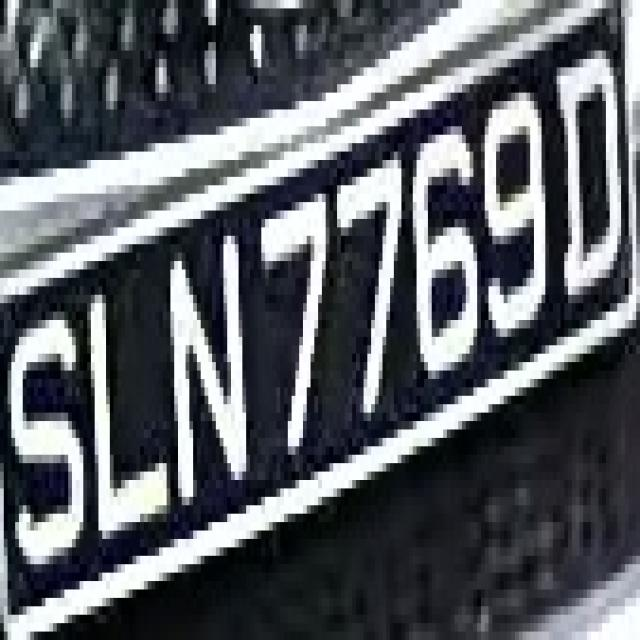6: (409, 110, 481, 388)
7: (242, 168, 334, 488), (326, 152, 401, 463)
9: (477, 67, 553, 337)
D: (553, 34, 629, 337)
L: (87, 286, 167, 556)
N: (159, 252, 261, 514)
S: (7, 295, 91, 598)
